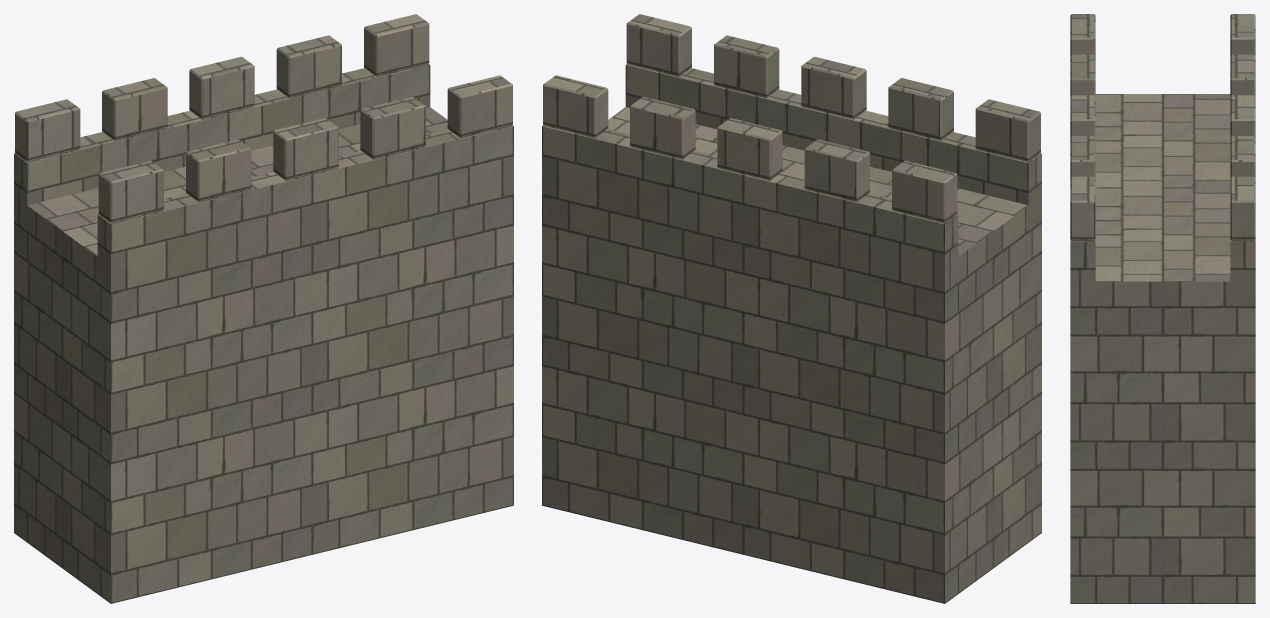
Rendered from Furn_CastleWall.fbx.
3 views of the same model, side by side, from view 1: azimuth 30°, elevation 25°; view 2: azimuth 150°, elevation 25°; view 3: azimuth 270°, elevation 25° (orthographic). The views are drawn at different scales.
Parts seen in each view (by area): view 1: Furn_CastleWall_Mesh; view 2: Furn_CastleWall_Mesh; view 3: Furn_CastleWall_Mesh.
Boxes of the visible parts, x1,y1,x2,y2 form: Furn_CastleWall_Mesh: [14, 14, 513, 603]; Furn_CastleWall_Mesh: [542, 14, 1041, 603]; Furn_CastleWall_Mesh: [1070, 14, 1255, 603].
Size of the model in its own units: 6 by 6 by 2.5.
